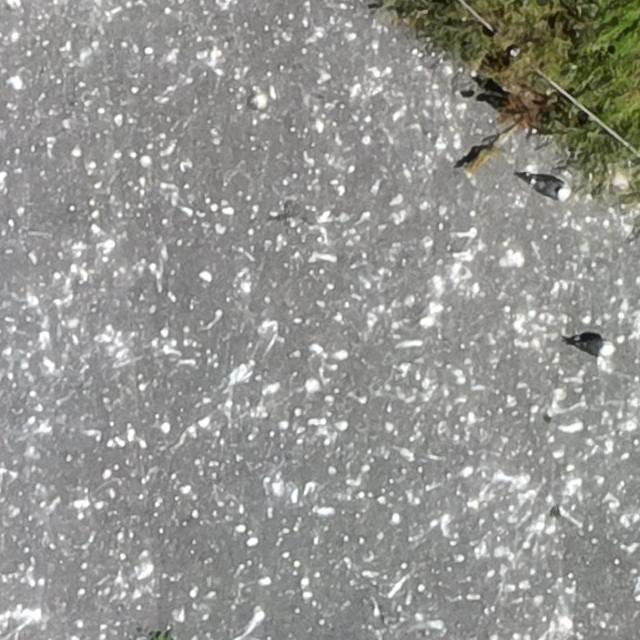umineko: (573, 336, 611, 354), (534, 180, 568, 200)
